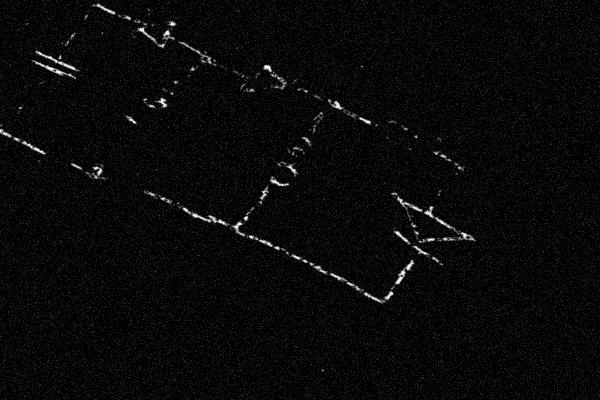capacitor: (15, 36, 90, 101)
diode: (354, 178, 487, 290)
